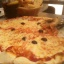olives: (20, 36, 29, 44), (35, 20, 44, 27), (30, 40, 38, 47), (40, 35, 47, 42), (38, 27, 43, 35), (20, 21, 28, 26), (11, 27, 17, 32)
pizza: (1, 16, 62, 63)
